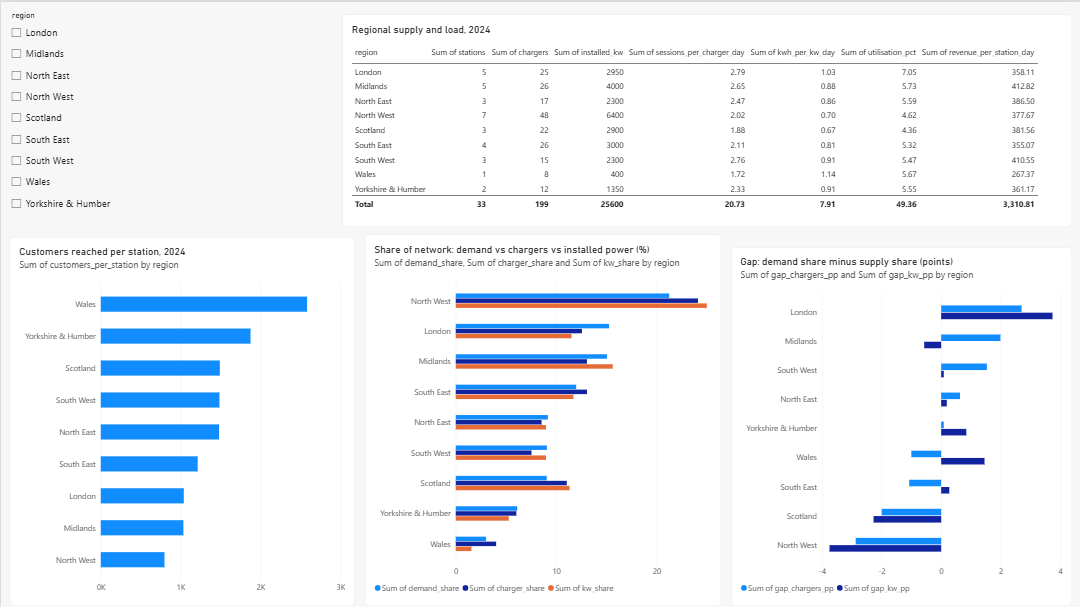

Layout of this report page (visuals, bound fields, positions):
{"tool":"powerbi","page":{"name":"Gap_Analysis","canvas":[1920,1080],"ordinal":1},"visuals":[{"type":"slicer","fields":{"Values":["Dim_Region.region"]},"box":[11.1,15.6,568.9,362.2],"z":0},{"type":"clusteredBarChart","title":"Share of network: demand vs chargers vs installed power (%)","fields":{"Category":["gap_analysis.region"],"Y":["Sum(gap_analysis.demand_share)","Sum(gap_analysis.charger_share)","Sum(gap_analysis.kw_share)"]},"box":[646.7,413.3,633.3,660],"z":1},{"type":"clusteredBarChart","title":"Customers reached per station, 2024","fields":{"Category":["customer_reach.region"],"Y":["Sum(customer_reach.customers_per_station)"]},"box":[15.6,417.8,613.3,655.6],"z":2},{"type":"clusteredBarChart","title":"Gap: demand share minus supply share (points)","fields":{"Category":["gap_analysis.region"],"Y":["Sum(gap_analysis.gap_chargers_pp)","Sum(gap_analysis.gap_kw_pp)"]},"box":[1297.8,435.6,606.7,637.8],"z":3},{"type":"tableEx","title":"Regional supply and load, 2024","fields":{"Values":["regional_supply_demand.region","Sum(regional_supply_demand.stations)","Sum(regional_supply_demand.chargers)","Sum(regional_supply_demand.installed_kw)","Sum(regional_supply_demand.sessions_per_charger_day)","Sum(regional_supply_demand.kwh_per_kw_day)","Sum(regional_supply_demand.utilisation_pct)","Sum(regional_supply_demand.revenue_per_station_day)"]},"box":[606.7,22.2,1297.8,377.8],"z":4}]}

Visuals, with their boxes in screenshot pixels (x1, y1, x2, y2), scaled from the page's 1920x1080 canvas onto the 1080x607 screenshot:
slicer - Dim_Region.region: (6, 9, 326, 212)
"Share of network: demand vs chargers vs installed power (%)" clusteredBarChart: (364, 232, 720, 603)
"Customers reached per station, 2024" clusteredBarChart: (9, 235, 354, 603)
"Gap: demand share minus supply share (points)" clusteredBarChart: (730, 245, 1071, 603)
"Regional supply and load, 2024" tableEx: (341, 12, 1071, 225)
